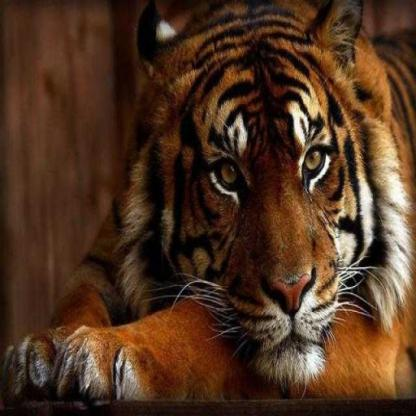Tiger: (25, 0, 415, 415)
